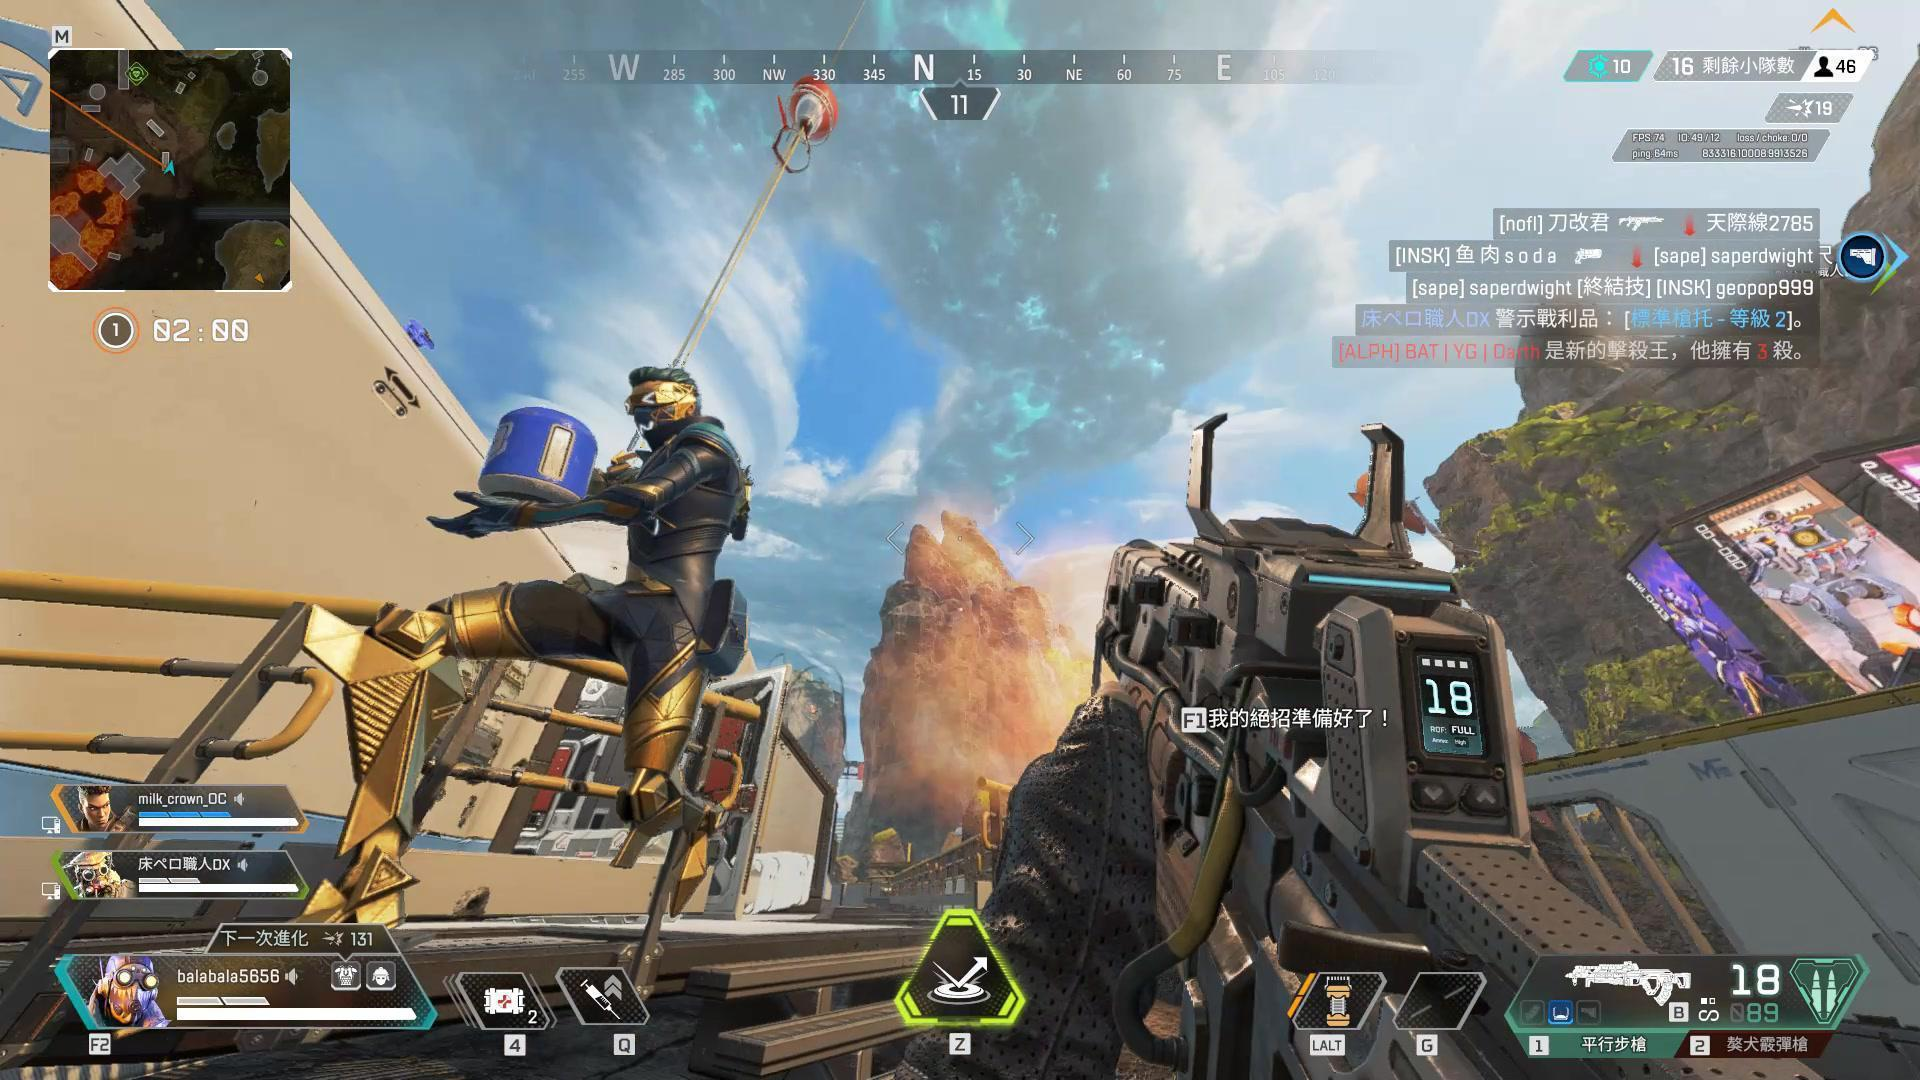avatar: (329, 368, 753, 934)
